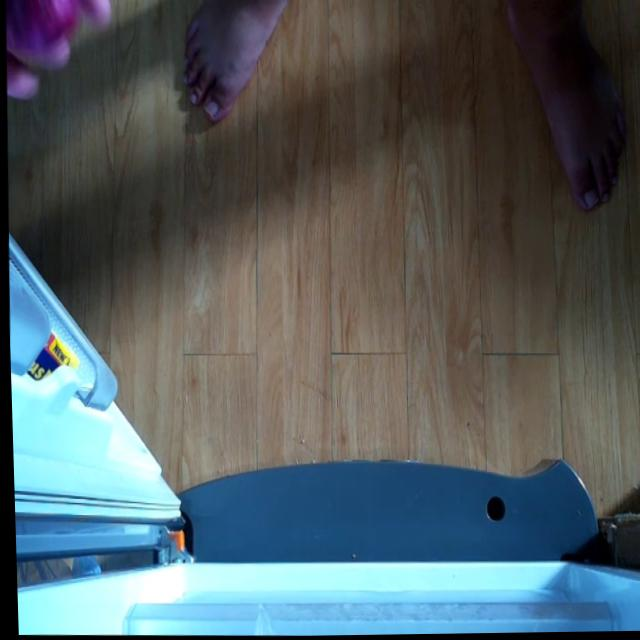onion: (4, 0, 103, 76)
